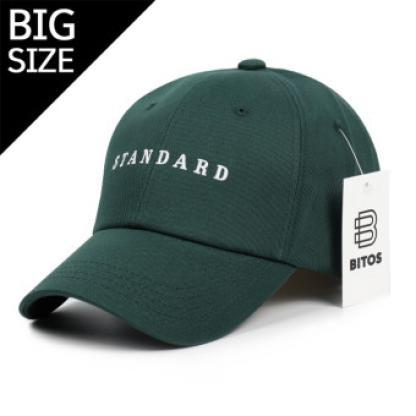cap: (9, 49, 396, 350)
